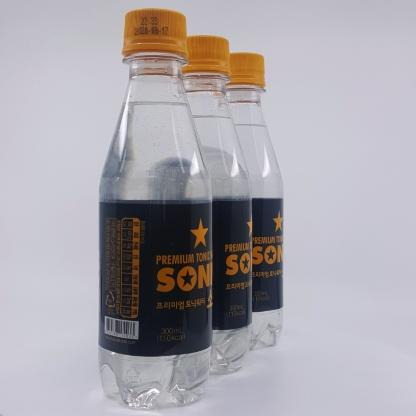----------------300ML: (98, 8, 212, 410), (155, 35, 252, 376), (203, 53, 283, 351)
